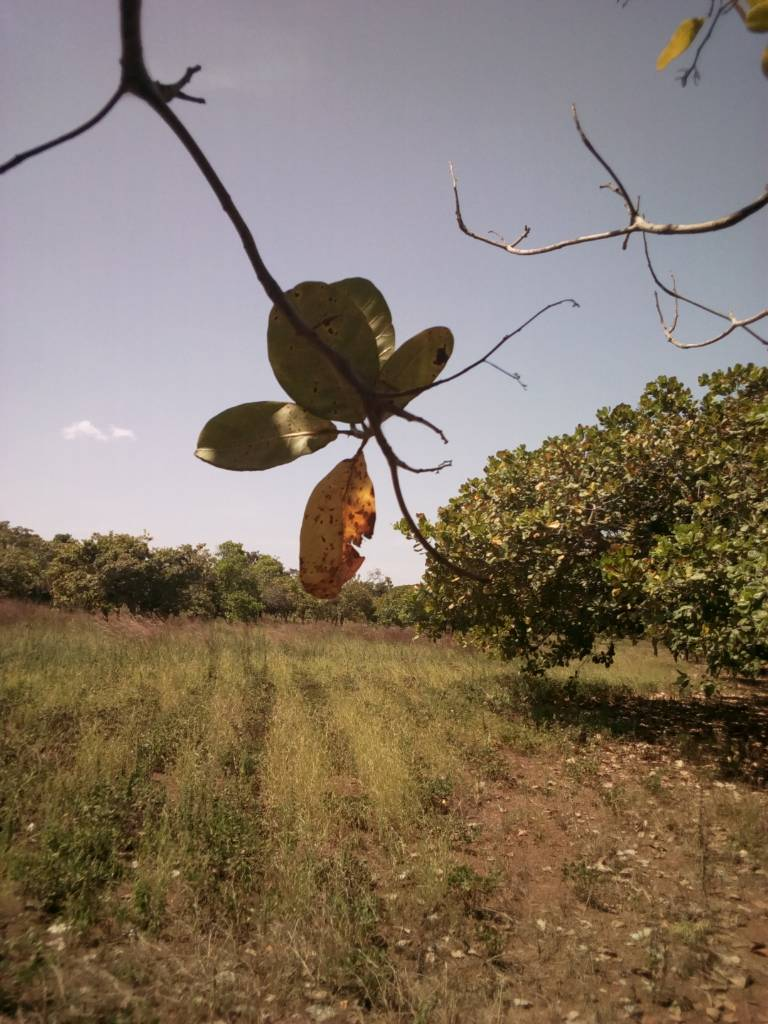Bactériose: (296, 450, 374, 605), (390, 324, 460, 385)
